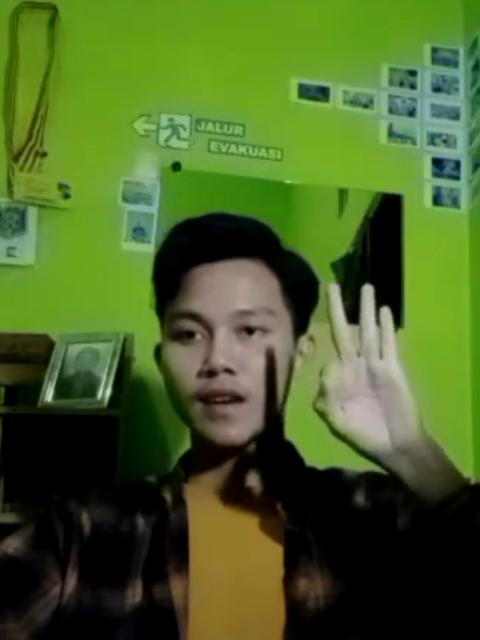F: (306, 276, 423, 454)
